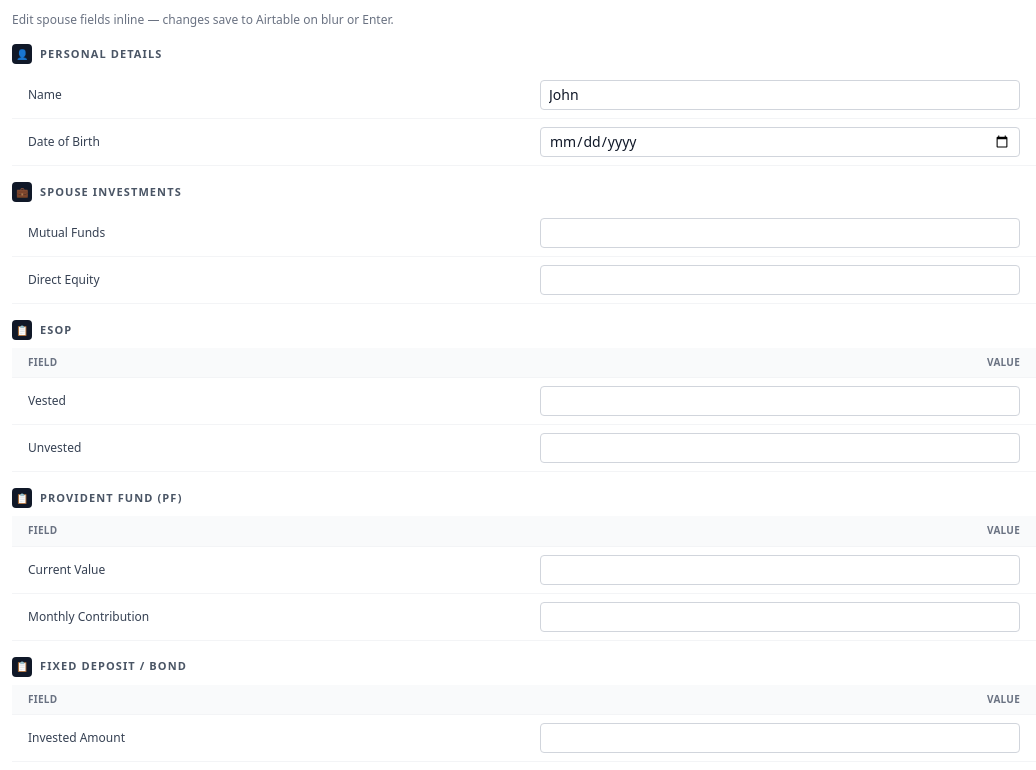
Scenario: SpouseDetailsPanel › shows error when PATCH fails
Replace the text in the field showing "John" with "Jane Doe": (780, 95) [540, 80, 1020, 110]
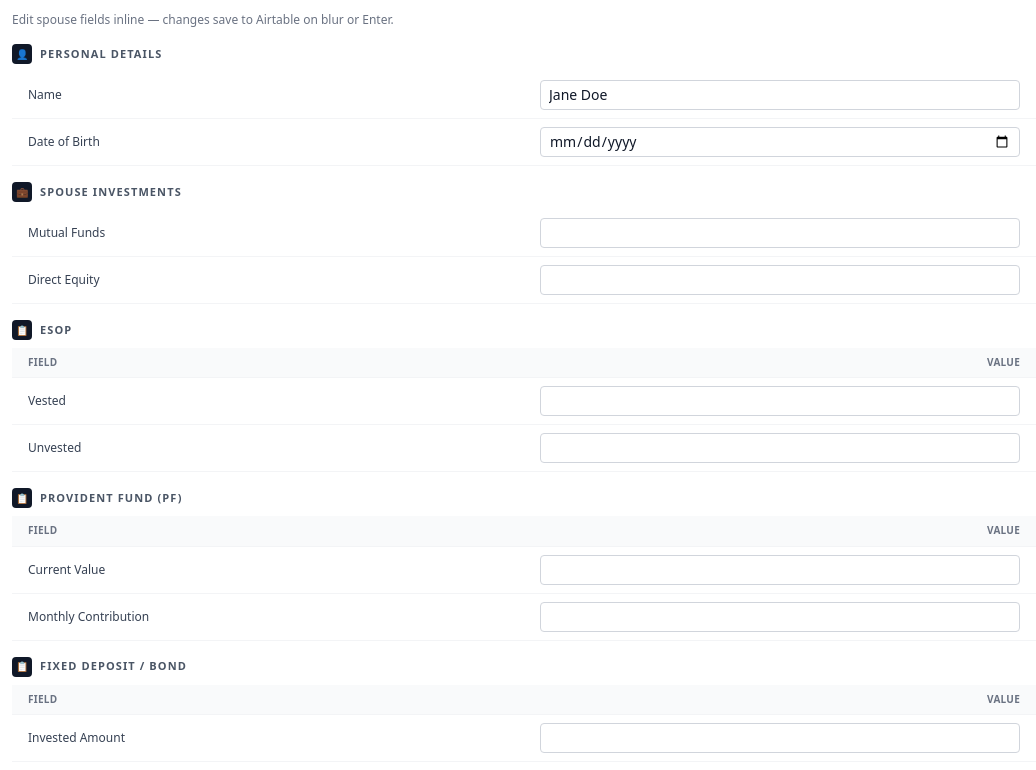
Leave the field showing "John", box [540, 80, 1020, 110]
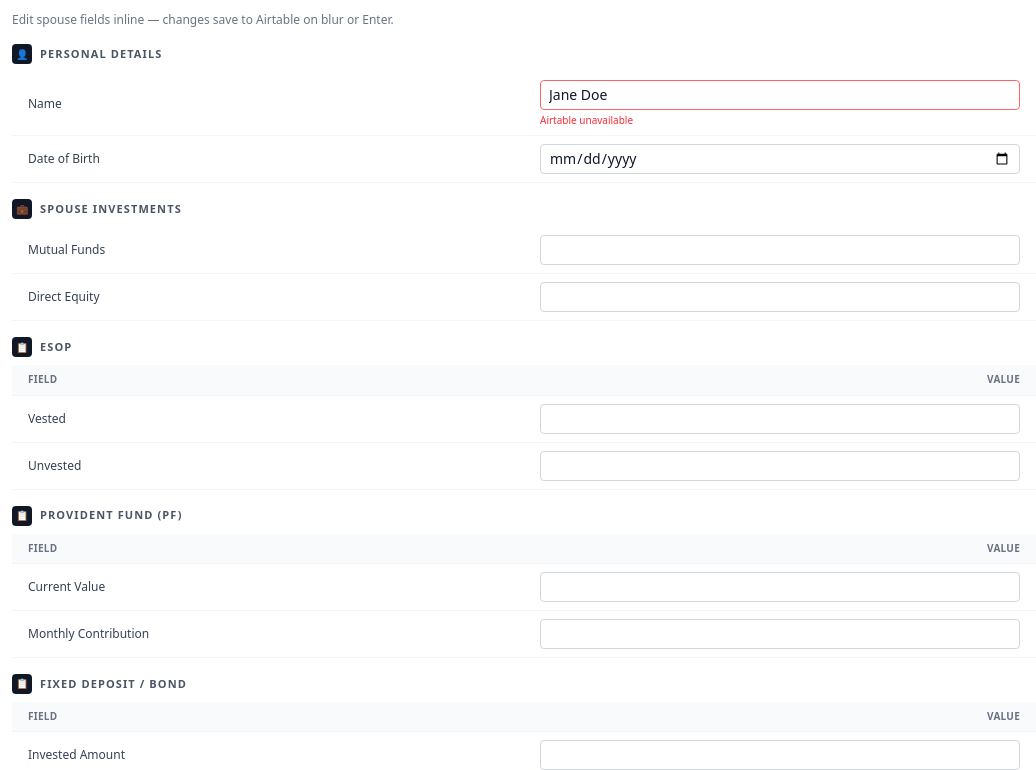
Check: the text "Airtable unavailable" is shown, box [540, 113, 633, 127]
